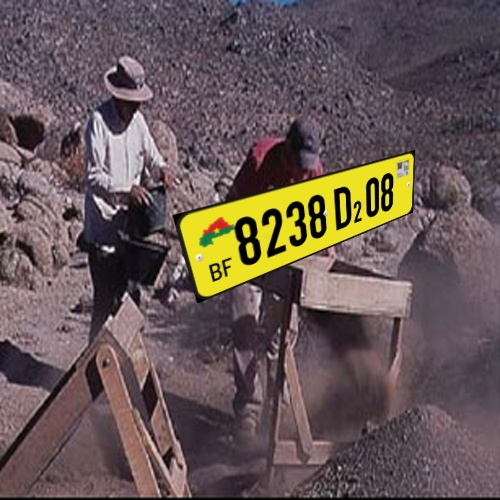plate: (163, 142, 430, 327)
